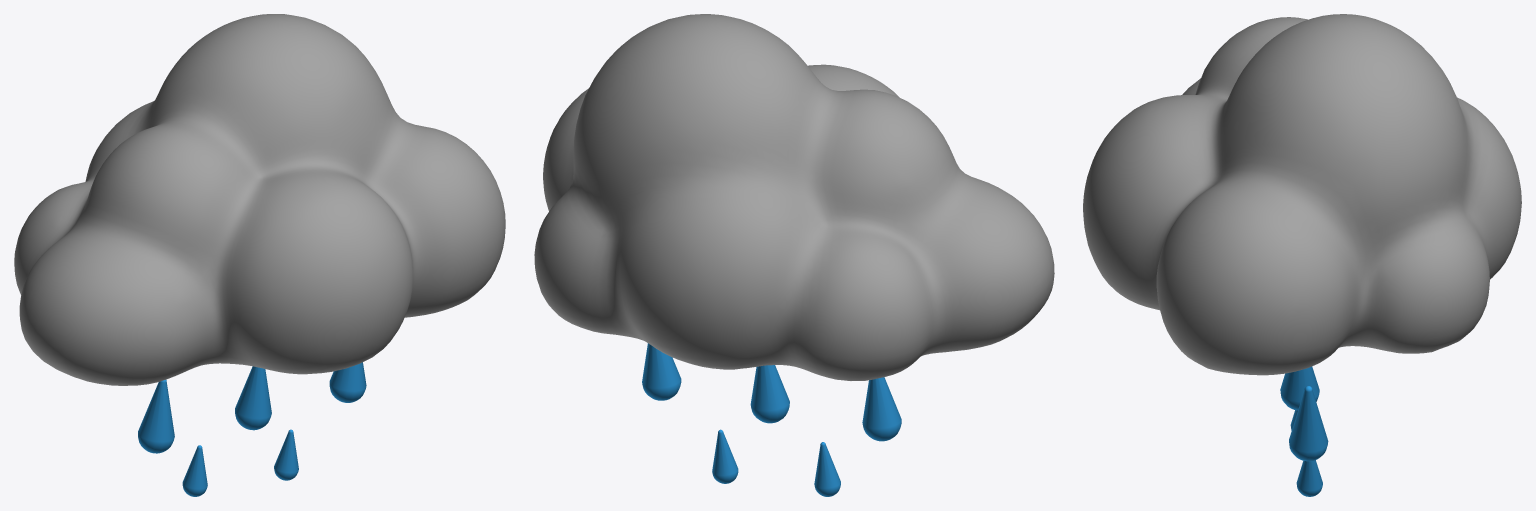
The model's file is PremadeRainy.glb.
The picture shows the model from 3 angles, left to right: view 1: azimuth 30°, elevation 25°; view 2: azimuth 150°, elevation 25°; view 3: azimuth 270°, elevation 25°; orthographic projection. The views are drawn at different scales.
Parts seen in each view (by area): view 1: node_id152, mesh_id111, mesh_id123, mesh_id117, mesh_id104, mesh_id110; view 2: node_id152, mesh_id111, mesh_id123, mesh_id117, mesh_id104, mesh_id110; view 3: node_id152, mesh_id117, mesh_id123, mesh_id110.
Part boxes in pixels (<box>): node_id152: <box>14,14,505,385</box>; mesh_id111: <box>138,380,174,453</box>; mesh_id123: <box>235,366,271,430</box>; mesh_id117: <box>329,362,366,402</box>; mesh_id104: <box>182,445,207,496</box>; mesh_id110: <box>274,429,298,480</box>; node_id152: <box>534,14,1054,380</box>; mesh_id111: <box>862,377,901,441</box>; mesh_id123: <box>750,365,789,423</box>; mesh_id117: <box>642,343,681,400</box>; mesh_id104: <box>814,442,840,496</box>; mesh_id110: <box>712,429,738,483</box>; node_id152: <box>1083,14,1521,375</box>; mesh_id117: <box>1289,386,1328,461</box>; mesh_id123: <box>1280,366,1319,410</box>; mesh_id110: <box>1296,460,1322,496</box>.
Bounding box in the file's own units: 0.512 × 0.4718 × 0.3991.
Materials: 6 (6 with a texture image).
